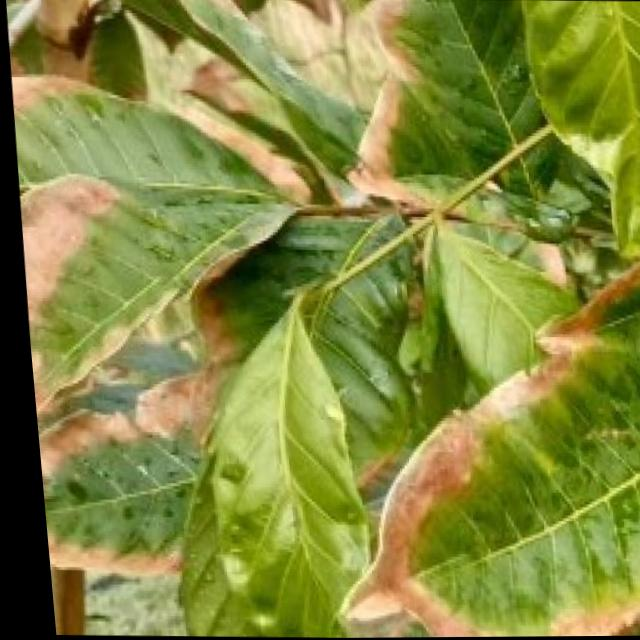Leaf Blight: (345, 333, 640, 638), (184, 0, 524, 234), (9, 131, 226, 444), (29, 418, 259, 612), (3, 0, 189, 130)
